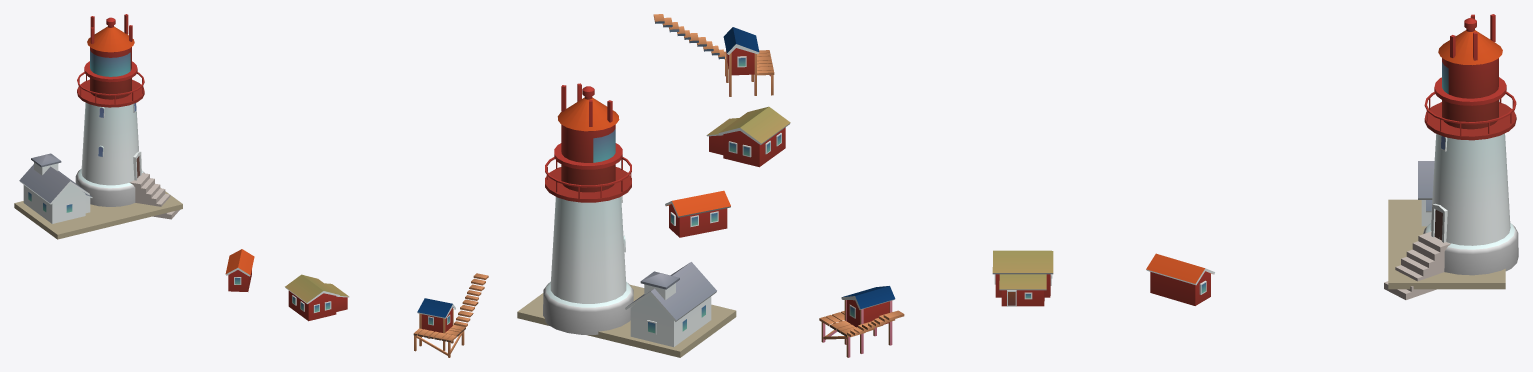
The model's file is Lighthouse_Stavanger.fbx.
The picture shows the model from 3 angles, left to right: view 1: azimuth 30°, elevation 25°; view 2: azimuth 150°, elevation 25°; view 3: azimuth 270°, elevation 25°; orthographic projection. The views are drawn at different scales.
Visible parts, largest first — view 1: Lighthouse_Stavanger; view 2: Lighthouse_Stavanger; view 3: Lighthouse_Stavanger.
Boxes of the visible parts, x1,y1,x2,y2 form: Lighthouse_Stavanger: [14, 14, 488, 357]; Lighthouse_Stavanger: [517, 14, 790, 357]; Lighthouse_Stavanger: [819, 14, 1518, 357].
Bounding box in the file's own units: 1.58 × 1.17 × 2.84.
Materials: 1 (1 with a texture image).
